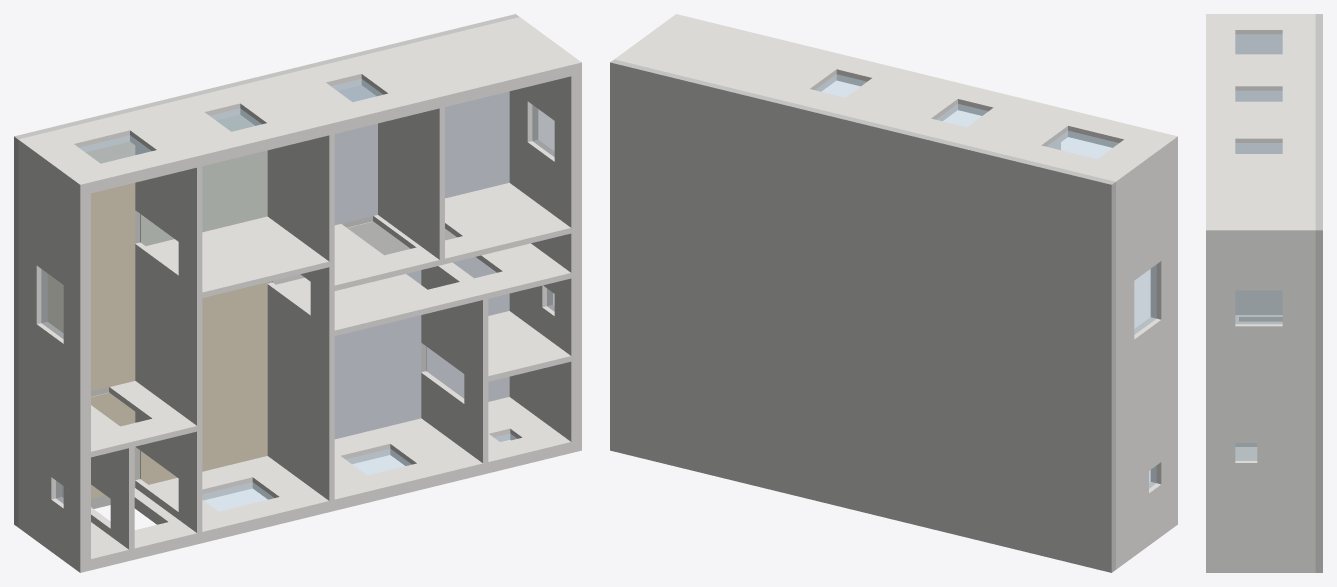
File: fixed_rooms_seed3.glb
The picture shows the model from 3 angles, left to right: view 1: azimuth 30°, elevation 25°; view 2: azimuth 150°, elevation 25°; view 3: azimuth 270°, elevation 25°; orthographic projection. The views are drawn at different scales.
Parts seen in each view (by area): view 1: wall_4, wall_5, wall_9, wall_7, wall_6, wall_1, floor_salon1, wall_2, floor_living1, wall_3, floor_master1, wall_8 (+40 smaller); view 2: slab, wall_5, wall_2, wall_1, wall_4, wall_3, wall_0, lintel_12, lintel_13, glass_12, sill_12, glass_13 (+4 smaller); view 3: wall_5, wall_6, wall_7, wall_4, slab, wall_3, wall_2, glass_18, sill_18, sill_20, lintel_18, glass_13 (+10 smaller).
Boxes of the visible parts, x1=… form: wall_4: x1=109, y1=69, x2=402, y2=491; wall_5: x1=343, y1=17, x2=581, y2=266; wall_9: x1=235, y1=274, x2=446, y2=519; wall_7: x1=421, y1=262, x2=581, y2=460; wall_6: x1=445, y1=129, x2=581, y2=305; wall_1: x1=18, y1=311, x2=138, y2=512; floor_salon1: x1=140, y1=282, x2=267, y2=484; wall_2: x1=18, y1=130, x2=117, y2=297; floor_living1: x1=47, y1=141, x2=135, y2=391; wall_3: x1=112, y1=98, x2=247, y2=255; floor_master1: x1=334, y1=270, x2=421, y2=439; wall_8: x1=372, y1=371, x2=517, y2=486; slab: x1=610, y1=59, x2=1115, y2=572; wall_5: x1=614, y1=14, x2=852, y2=102; wall_2: x1=1079, y1=127, x2=1177, y2=293; wall_1: x1=1116, y1=308, x2=1177, y2=494; wall_4: x1=827, y1=66, x2=973, y2=131; wall_3: x1=948, y1=95, x2=1083, y2=158; wall_0: x1=1116, y1=472, x2=1177, y2=569; lintel_12: x1=1150, y1=249, x2=1177, y2=319; lintel_13: x1=1068, y1=113, x2=1140, y2=147; glass_12: x1=1134, y1=265, x2=1156, y2=334; sill_12: x1=1116, y1=281, x2=1134, y2=352; glass_13: x1=1047, y1=131, x2=1118, y2=158; wall_5: x1=1206, y1=154, x2=1315, y2=321; wall_6: x1=1206, y1=321, x2=1315, y2=442; wall_7: x1=1206, y1=443, x2=1315, y2=572; wall_4: x1=1206, y1=101, x2=1315, y2=153; slab: x1=1315, y1=14, x2=1322, y2=572; wall_3: x1=1206, y1=54, x2=1315, y2=101; wall_2: x1=1206, y1=14, x2=1315, y2=54; glass_18: x1=1235, y1=290, x2=1282, y2=323; sill_18: x1=1282, y1=290, x2=1315, y2=326; sill_20: x1=1257, y1=443, x2=1315, y2=462; lintel_18: x1=1206, y1=290, x2=1235, y2=326; glass_13: x1=1235, y1=34, x2=1282, y2=53.
Bounding box in the file's own units: 14 × 10.35 × 3.2.
